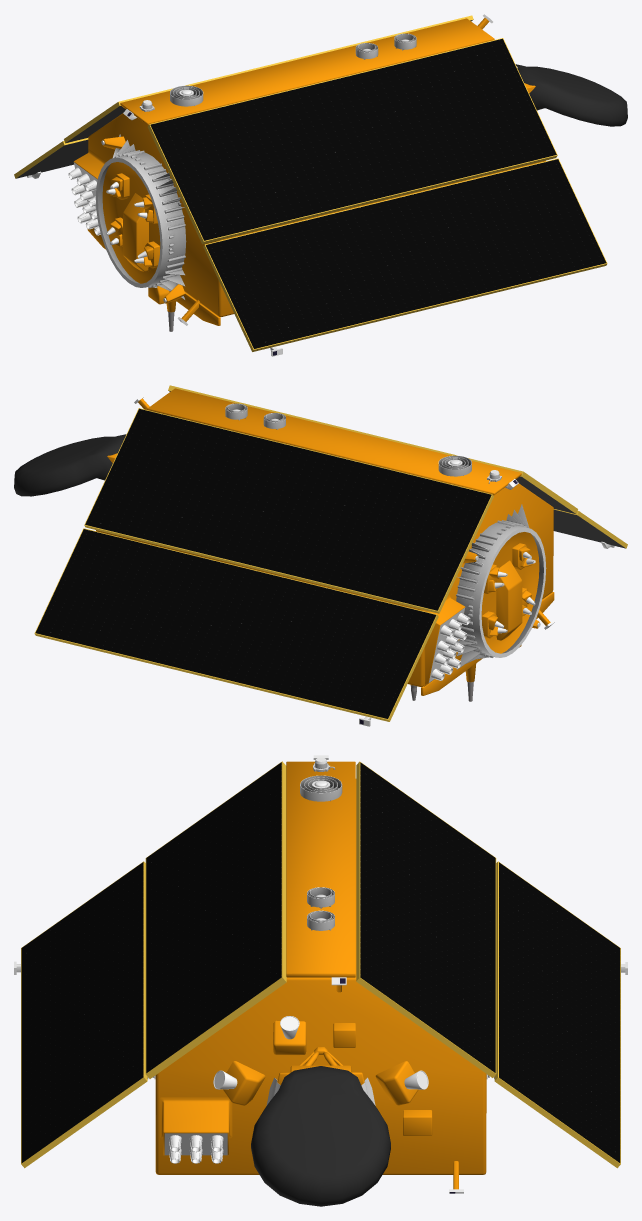
Rendered from Sentinel6.gltf.
3 renders of one model, top to bottom at view 1: azimuth 30°, elevation 25°; view 2: azimuth 150°, elevation 25°; view 3: azimuth 270°, elevation 25°, orthographic. The views are drawn at different scales.
Parts seen in each view (by area): view 1: array, BUS, MPPS, AMR, GNSS_POD_RO_SPA, GNSS; view 2: array, BUS, MPPS, AMR, GNSS, GNSS_POD_RO_SPA; view 3: array, BUS, AMR, GNSS_POD_RO_SPA, GNSS, starTrackers.
Part boxes in pixels (x1=…): array: x1=14, y1=15, x2=607, y2=351; BUS: x1=73, y1=18, x2=545, y2=325; MPPS: x1=95, y1=134, x2=186, y2=299; AMR: x1=515, y1=64, x2=627, y2=126; GNSS_POD_RO_SPA: x1=139, y1=33, x2=416, y2=111; GNSS: x1=68, y1=162, x2=100, y2=235; array: x1=34, y1=385, x2=627, y2=721; BUS: x1=96, y1=388, x2=554, y2=695; MPPS: x1=456, y1=504, x2=546, y2=669; AMR: x1=14, y1=434, x2=126, y2=496; GNSS: x1=429, y1=607, x2=470, y2=682; GNSS_POD_RO_SPA: x1=225, y1=403, x2=501, y2=483; array: x1=21, y1=761, x2=620, y2=1168; BUS: x1=155, y1=761, x2=486, y2=1189; AMR: x1=251, y1=1066, x2=390, y2=1206; GNSS_POD_RO_SPA: x1=300, y1=757, x2=342, y2=930; GNSS: x1=164, y1=1133, x2=227, y2=1163; starTrackers: x1=213, y1=1016, x2=428, y2=1089.
Bounding box in the file's own units: 5.13 × 2.32 × 4.37.
Materials: 17 (4 with a texture image).
